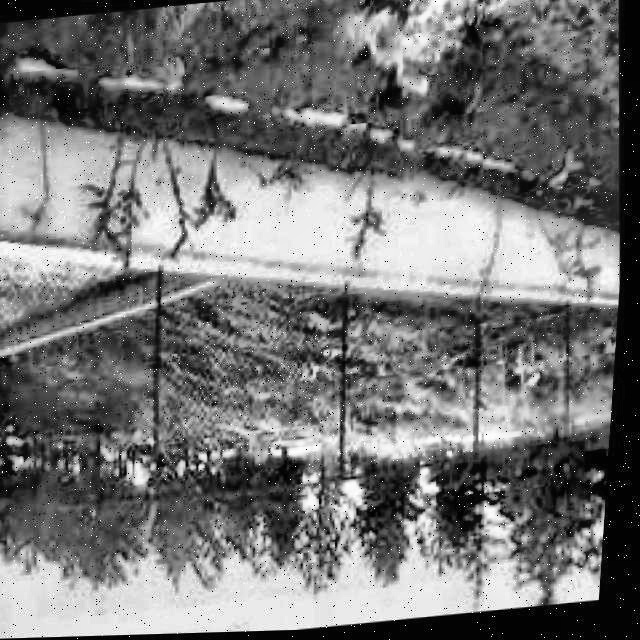Fire: (331, 0, 530, 104)
